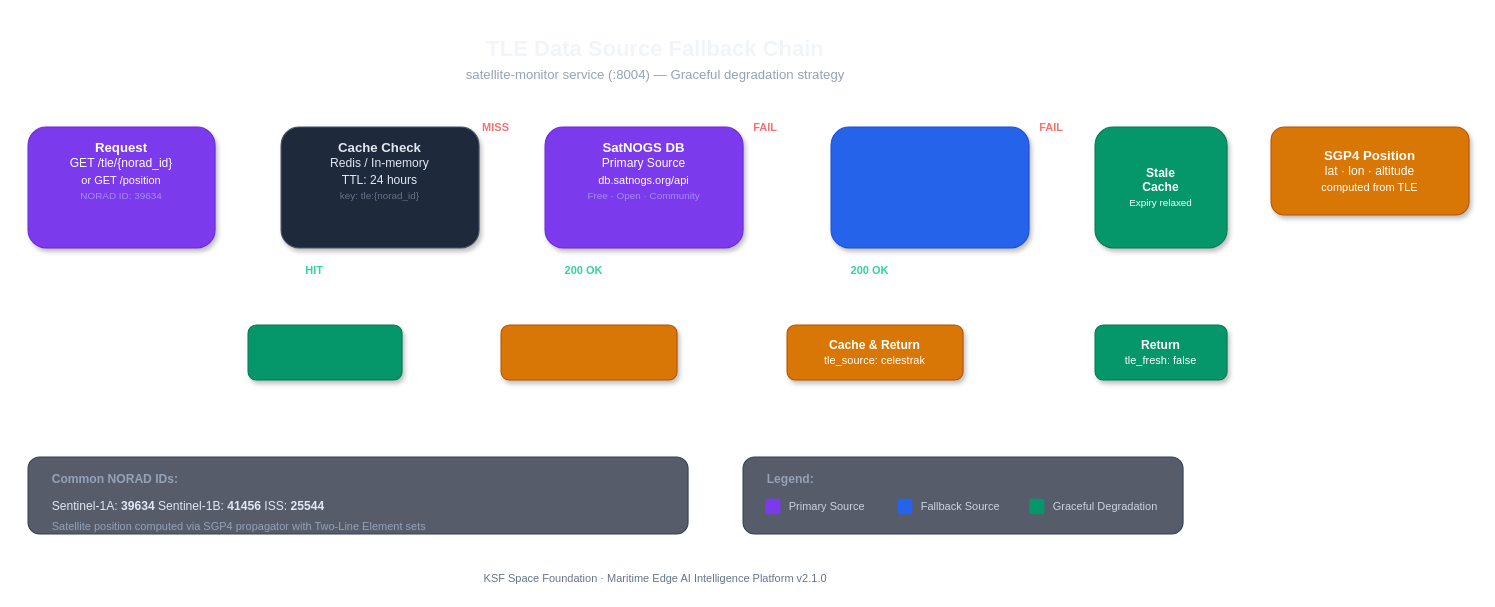
The diagram is 1495 pixels wide and 607 high, and some of its shapes have lost their labels. Each missing label, with the centre of its shape:
"Cache & Return tle_source: satnogs" goes at point 590,354.
"Celestrak Fallback Source celestrak.org/shape NASA · High Reliability" goes at point 931,189.
"Return Cached tle_fresh: false" goes at point 326,354.
